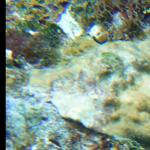dead: (8, 2, 146, 148)
